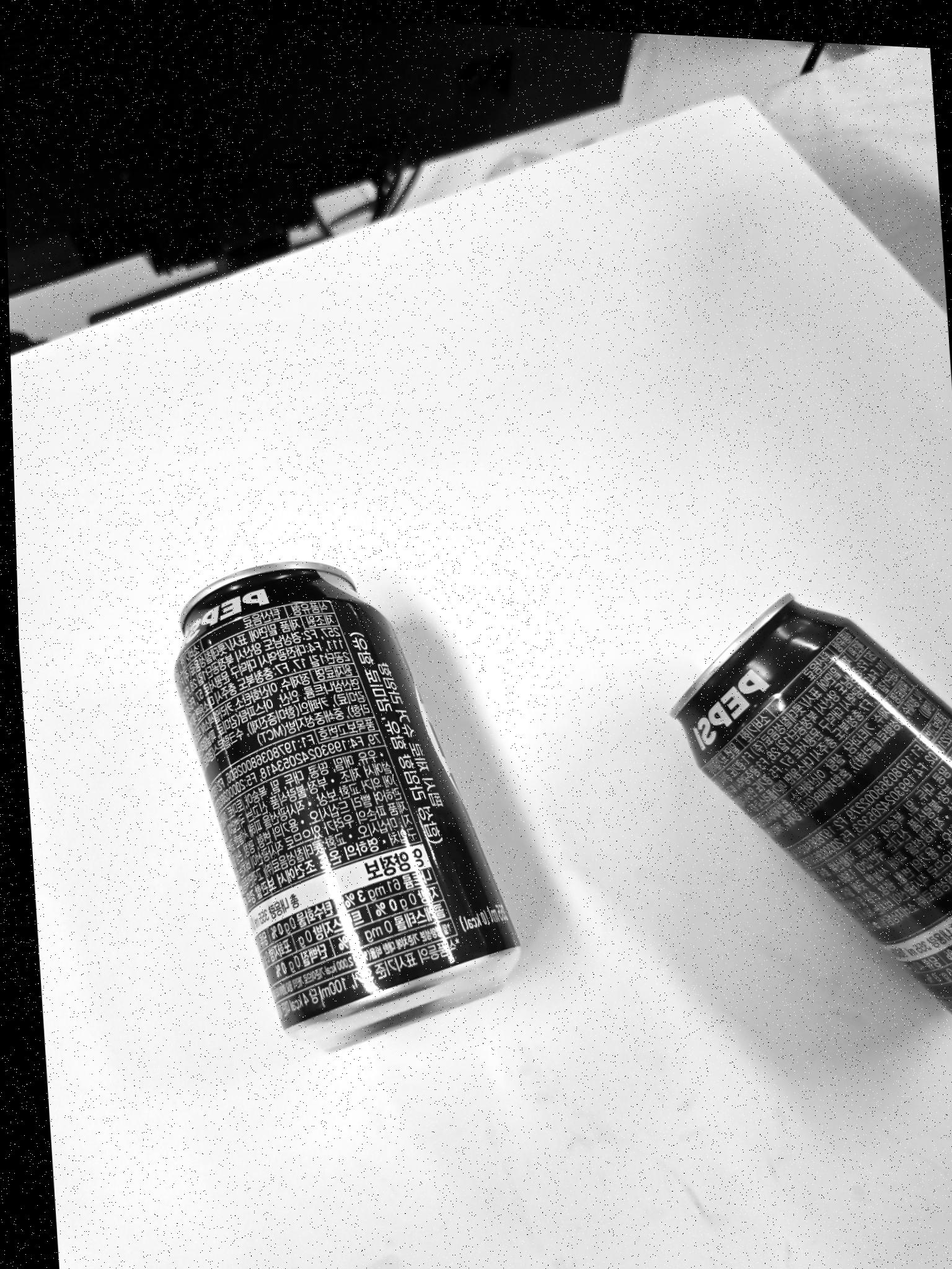can_pepsi: (676, 594, 952, 1017)
can_pepsi_zero: (167, 564, 513, 1042)
